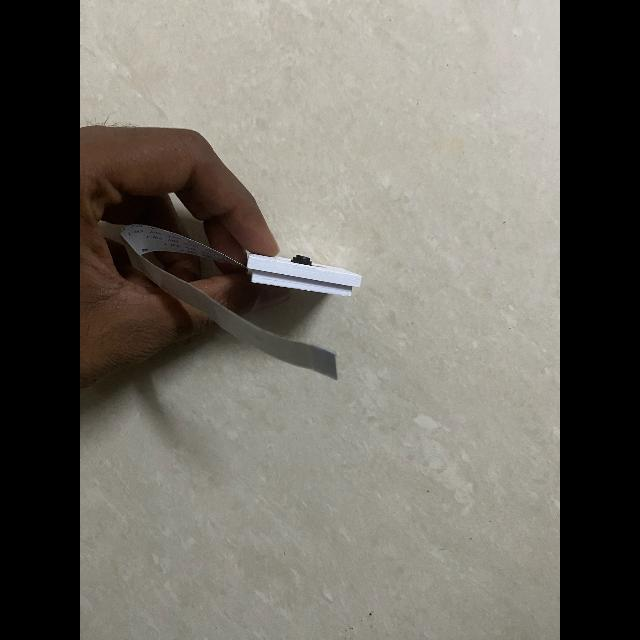RASPBERY PI CAM ENCLOSURE: (246, 253, 362, 297)
